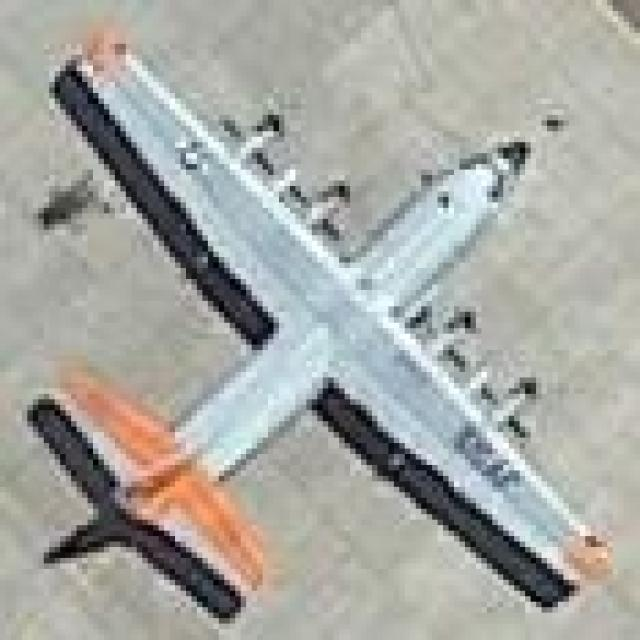C-130_TopDown: (24, 21, 616, 622)
